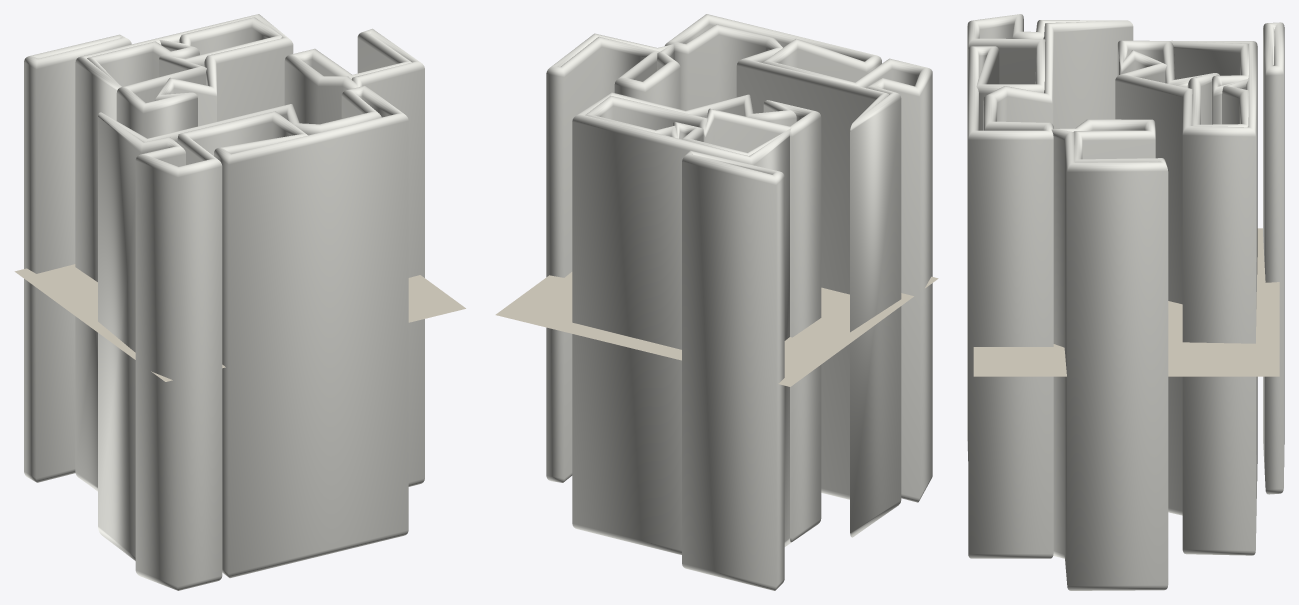
File: 7ae4115e-1d8b-448e-85d4-4c8f4dedf416_model.glb
3 renders of one model, left to right at view 1: azimuth 30°, elevation 25°; view 2: azimuth 150°, elevation 25°; view 3: azimuth 270°, elevation 25°, orthographic. The views are drawn at different scales.
Visible parts, largest first — view 1: wall_0, wall_2, wall_3, wall_1, Floor; view 2: wall_2, wall_0, wall_3, wall_1, Floor; view 3: wall_1, wall_0, wall_2, Floor, wall_3.
Boxes of the visible parts, x1=… form: wall_0: x1=98, y1=85, x2=408, y2=590; wall_2: x1=75, y1=14, x2=293, y2=491; wall_3: x1=24, y1=34, x2=131, y2=482; wall_1: x1=284, y1=28, x2=424, y2=486; Floor: x1=14, y1=264, x2=465, y2=381; wall_2: x1=572, y1=92, x2=821, y2=554; wall_0: x1=665, y1=14, x2=932, y2=537; wall_3: x1=682, y1=150, x2=784, y2=590; wall_1: x1=546, y1=33, x2=680, y2=482; Floor: x1=495, y1=272, x2=938, y2=386; wall_1: x1=1051, y1=119, x2=1168, y2=590; wall_0: x1=967, y1=14, x2=1133, y2=558; wall_2: x1=1115, y1=40, x2=1257, y2=555; Floor: x1=973, y1=228, x2=1279, y2=376; wall_3: x1=1263, y1=22, x2=1284, y2=494.
Size of the model in its own units: 4.77 by 6.2 by 4.17.
